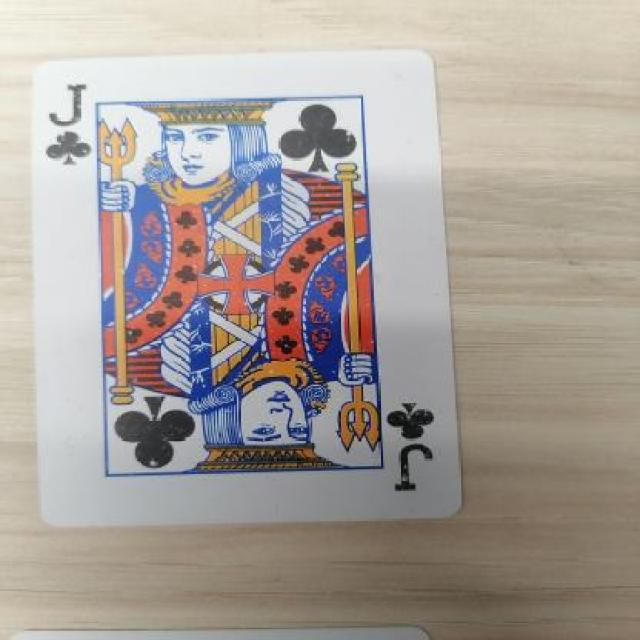JC: (37, 74, 114, 174), (381, 396, 453, 498)
